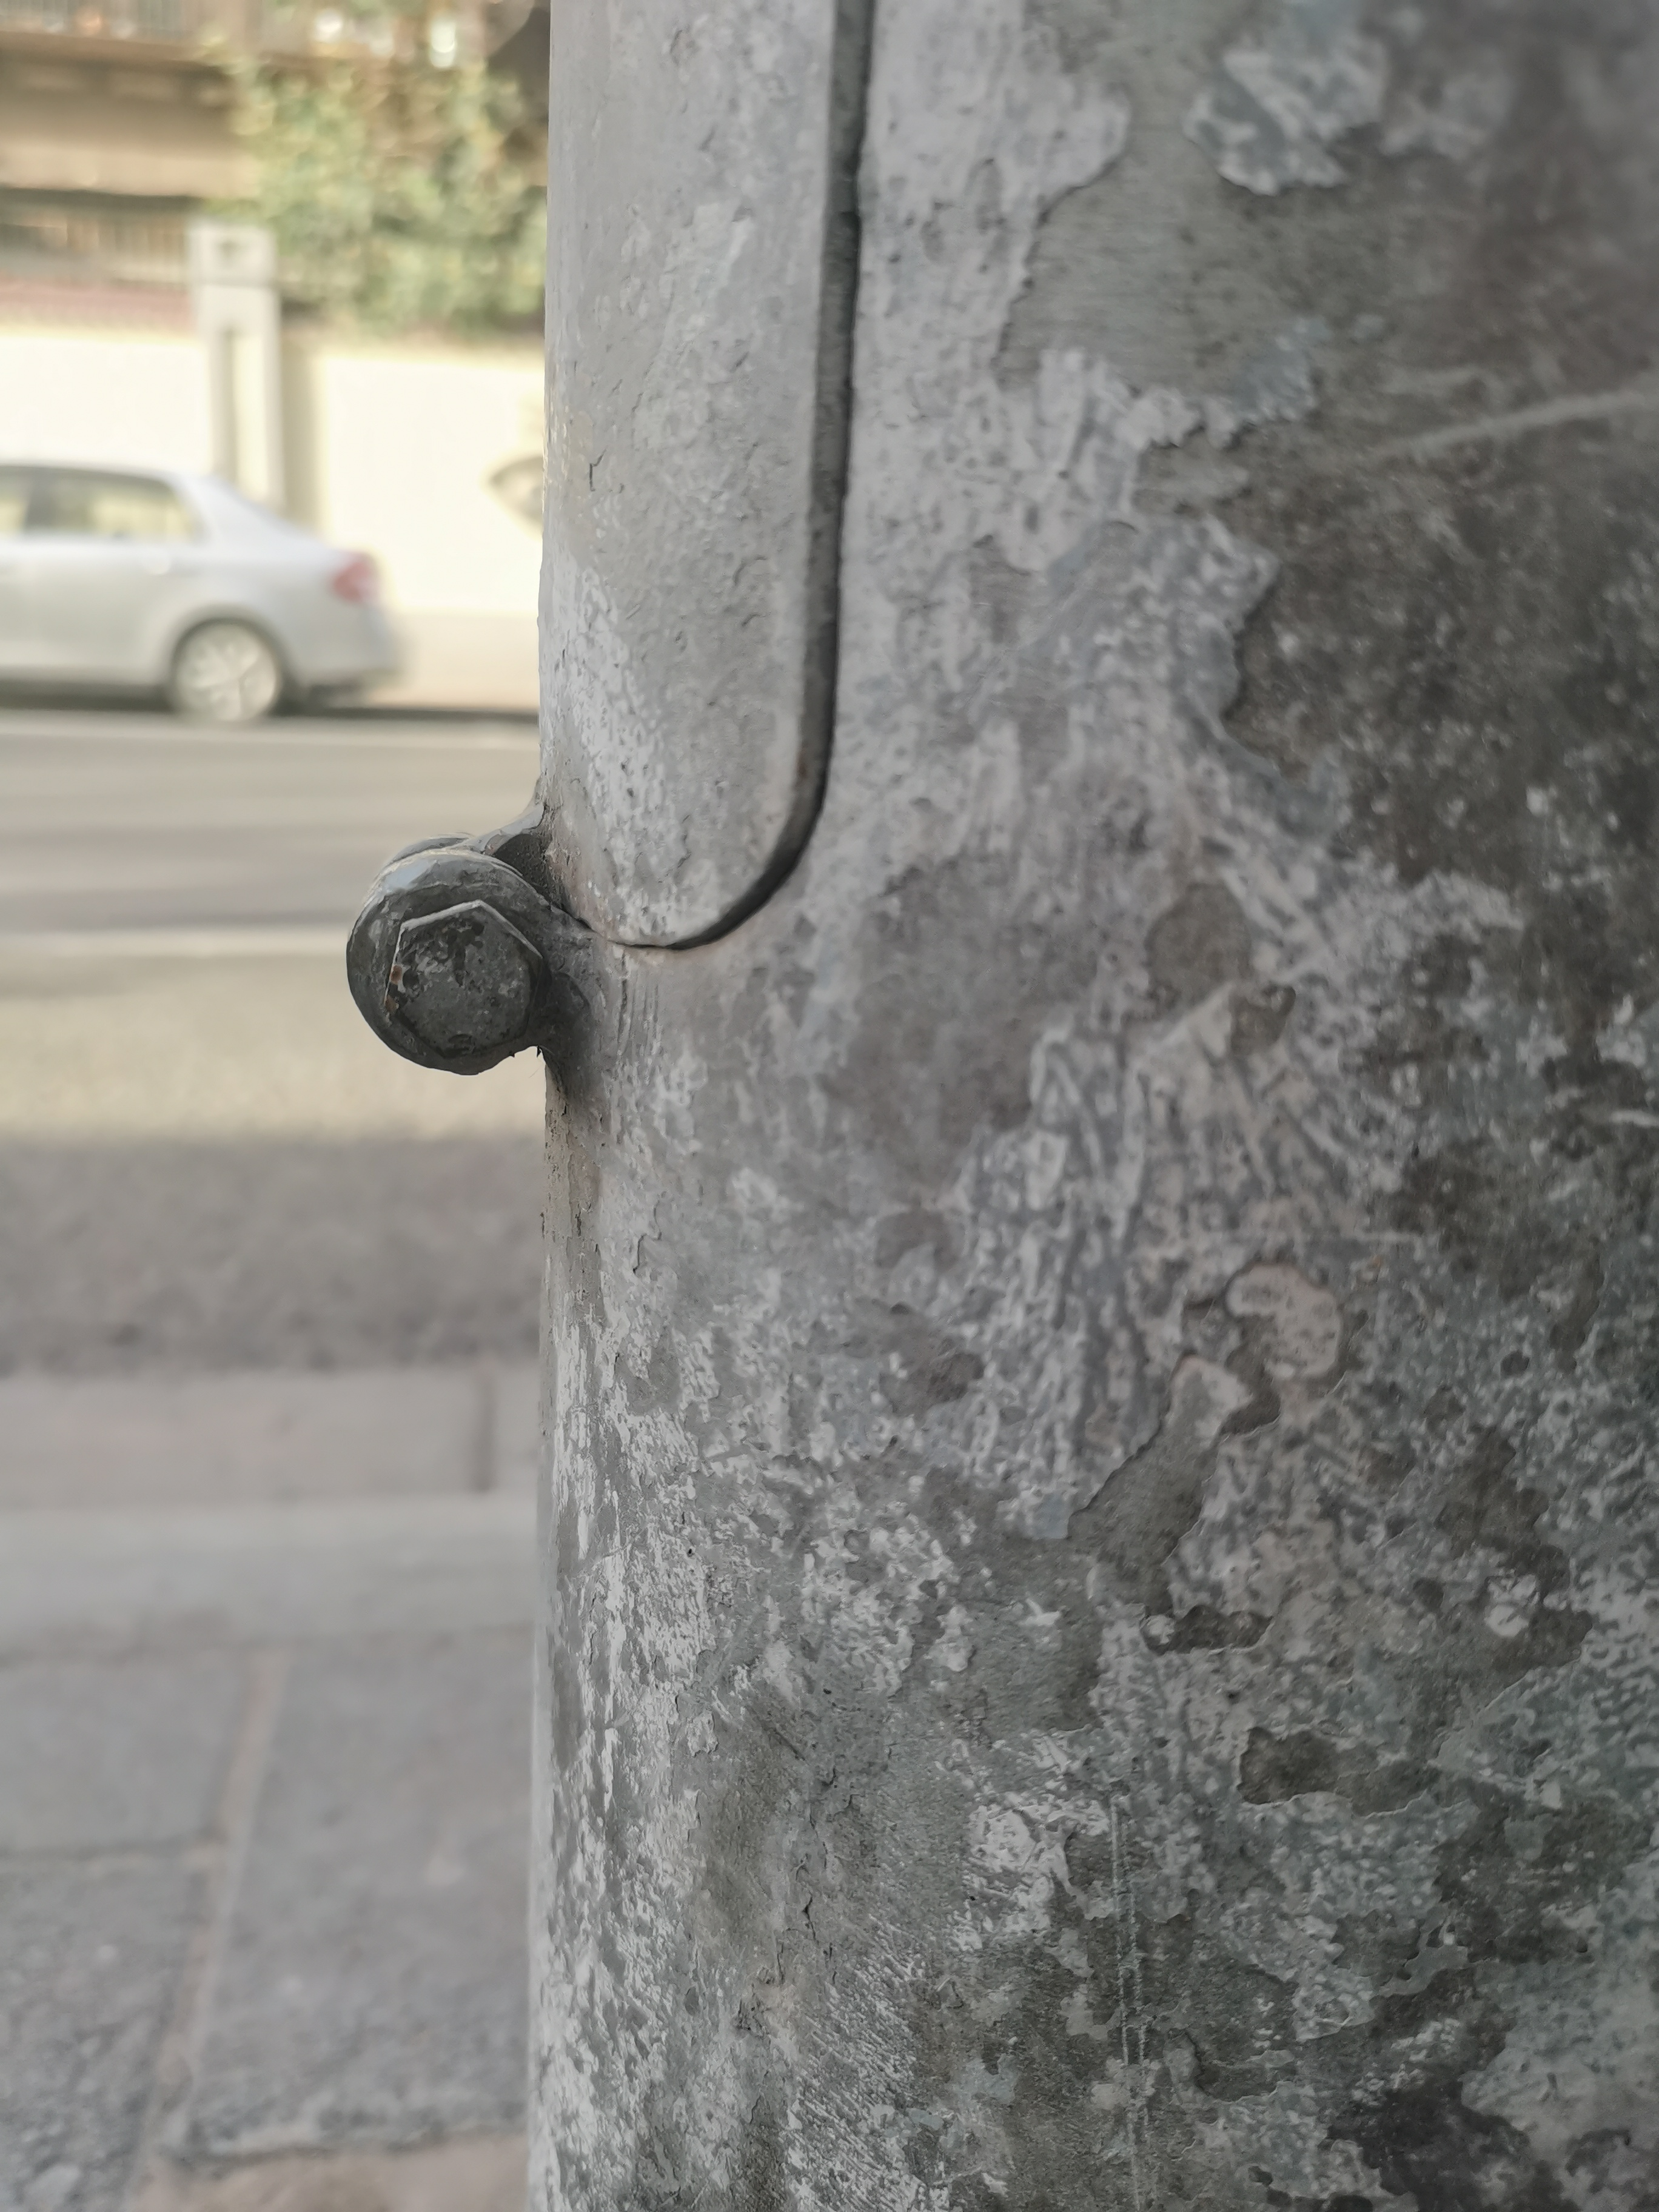bolt_a: (376, 892, 547, 1064)
